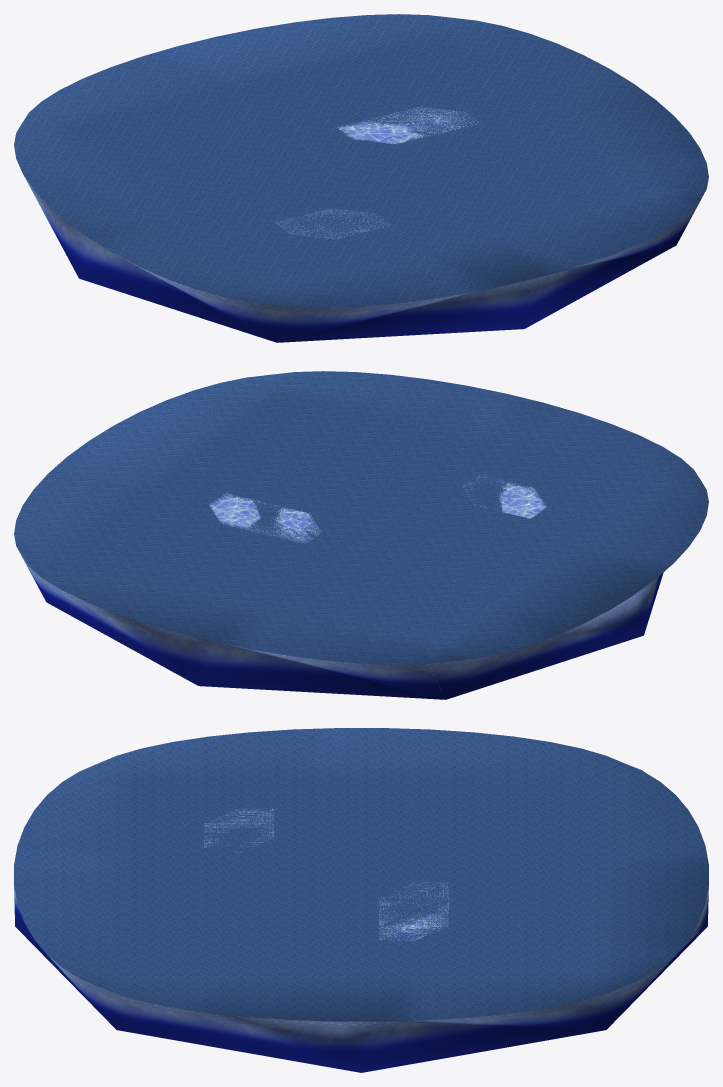
Rendered from ENVO_Shipwreck.obj.
The picture shows the model from 3 angles, top to bottom: view 1: azimuth 30°, elevation 25°; view 2: azimuth 150°, elevation 25°; view 3: azimuth 270°, elevation 25°; orthographic projection. The views are drawn at different scales.
Visible parts, largest first — view 1: ShipWreckmain; view 2: ShipWreckmain; view 3: ShipWreckmain.
Boxes of the visible parts, x1,y1,x2,y2 form: ShipWreckmain: [14, 14, 708, 342]; ShipWreckmain: [14, 371, 708, 699]; ShipWreckmain: [14, 728, 708, 1072].
Size of what is drawn, in the model's own units: 50873 by 4234 by 50873.
24 materials, 15 textured.
